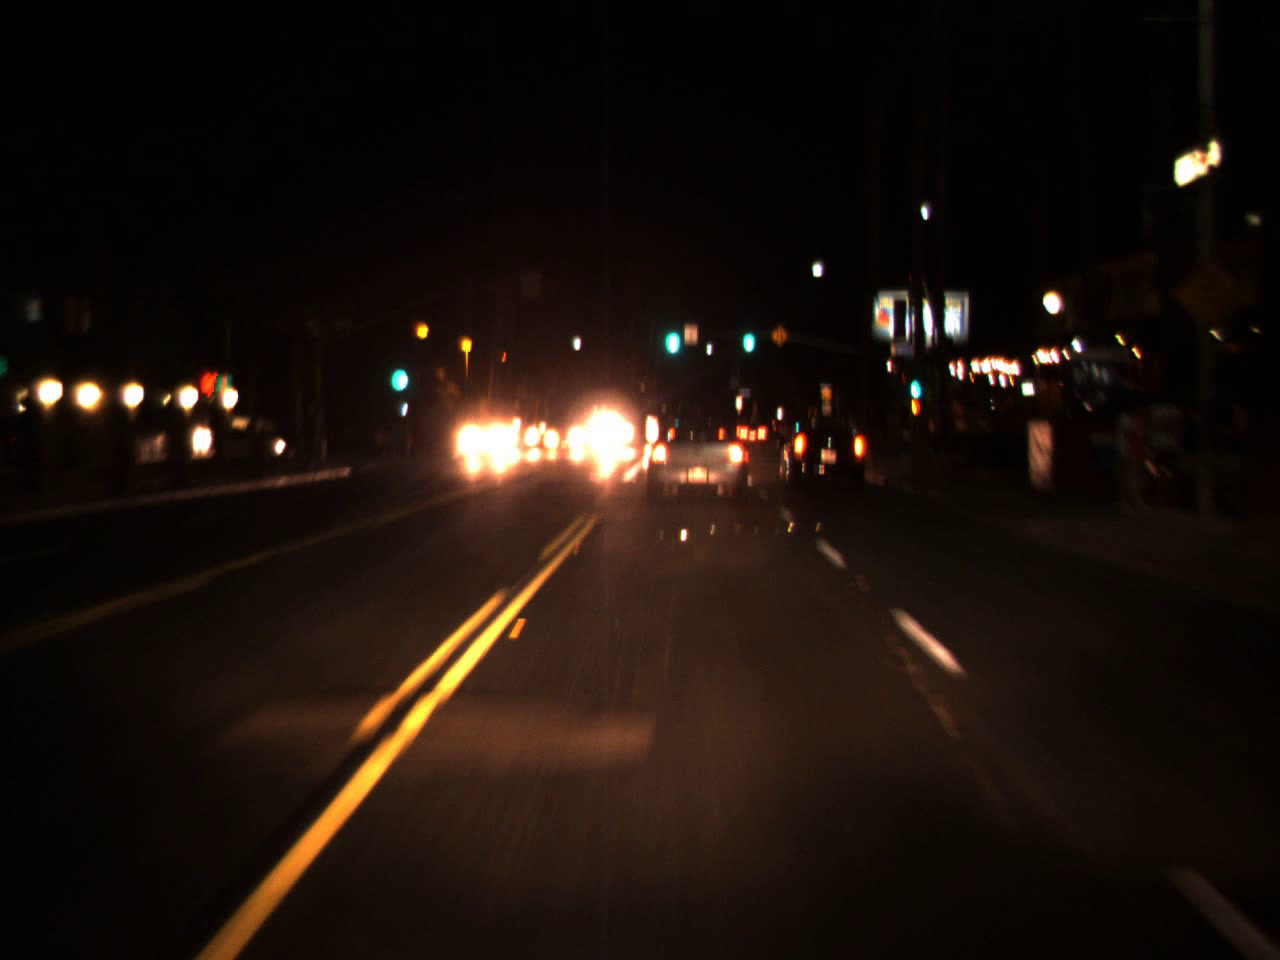go: (385, 340, 410, 400), (659, 307, 684, 361), (904, 355, 923, 409), (739, 314, 757, 356)
